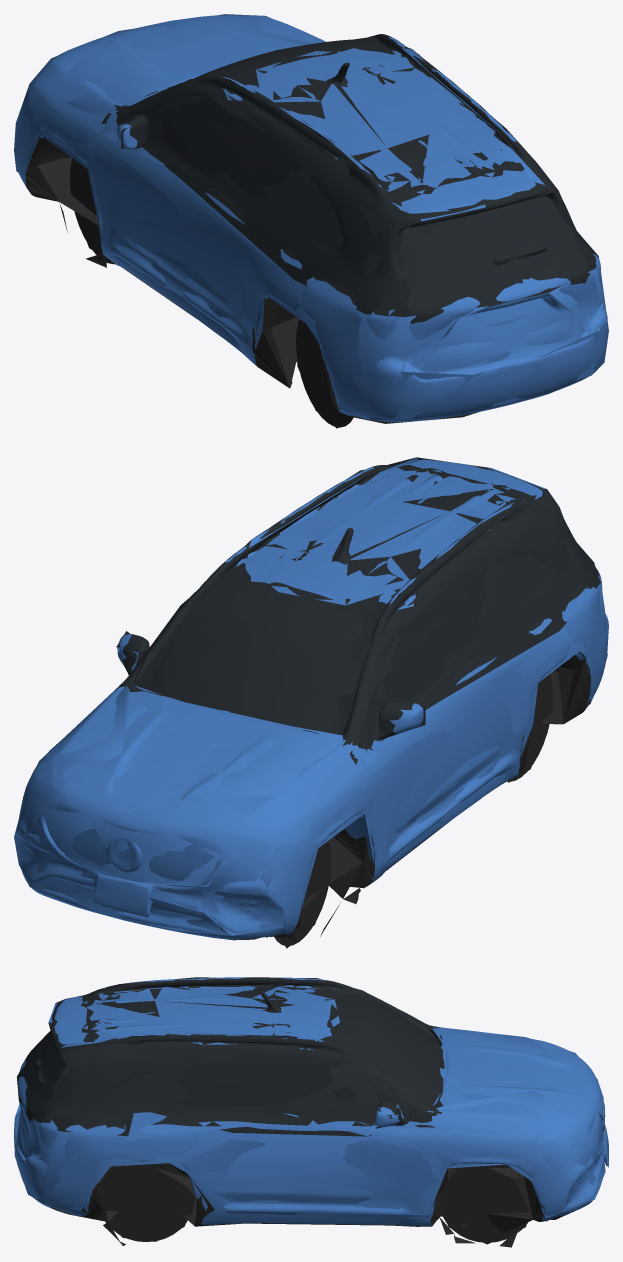
File: mercedes-benz-eqb.glb
3 views of the same model, one above another, from view 1: azimuth 30°, elevation 25°; view 2: azimuth 150°, elevation 25°; view 3: azimuth 270°, elevation 25° (orthographic). The views are drawn at different scales.
Visible parts, largest first — view 1: body, far; view 2: body, far; view 3: body, far.
Part boxes in pixels (box(x1,y1,x2,y2)): body: box(15, 15, 607, 427); far: box(14, 14, 608, 428); body: box(15, 459, 608, 946); far: box(14, 457, 607, 948); body: box(14, 977, 608, 1247); far: box(14, 977, 608, 1244).
Size of the model in its own units: 2.1 by 1.88 by 4.7.
